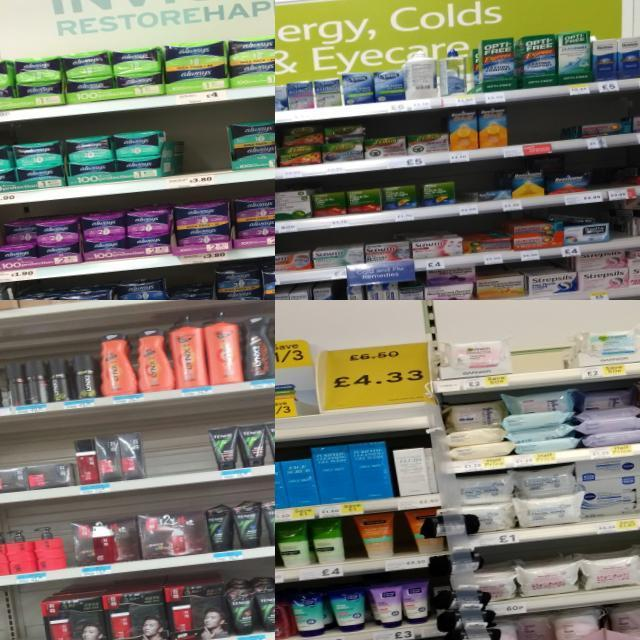empty: (142, 418, 212, 485), (178, 116, 231, 186), (508, 99, 562, 155), (513, 342, 566, 386), (0, 592, 47, 640), (590, 154, 625, 202), (454, 168, 478, 215), (606, 202, 628, 250)
